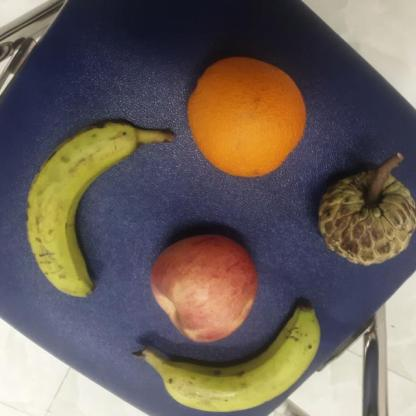annona: (314, 164, 416, 270)
apple: (150, 225, 262, 346)
banana: (136, 302, 335, 416), (25, 114, 143, 299)
orange: (184, 56, 309, 176)
